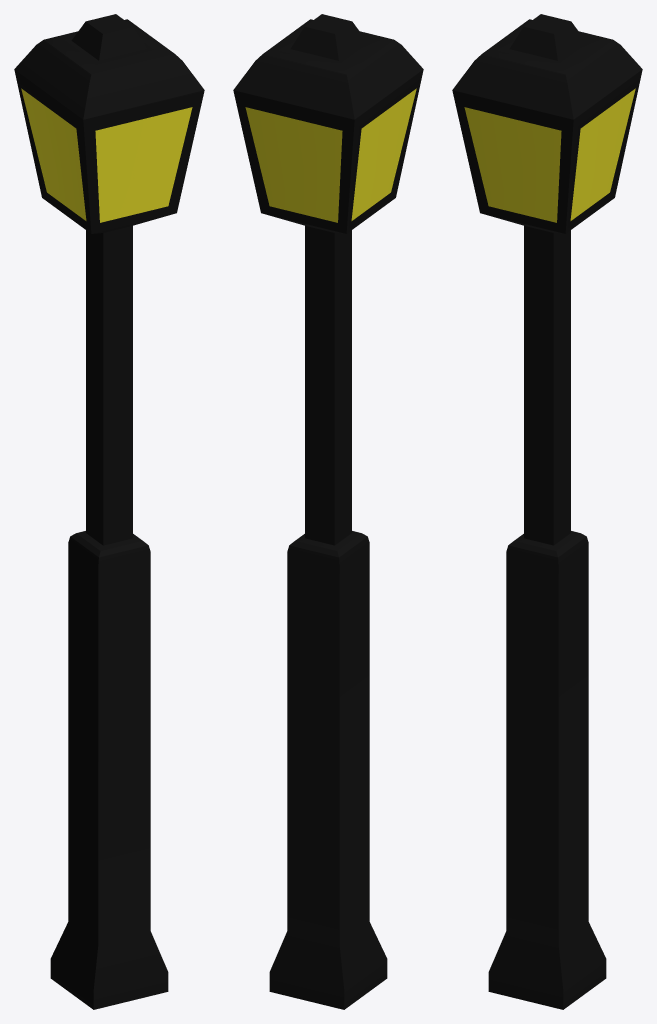
File: sokakLambasi.FBX
The picture shows the model from 3 angles, left to right: view 1: azimuth 30°, elevation 25°; view 2: azimuth 150°, elevation 25°; view 3: azimuth 330°, elevation 25°; orthographic projection.
Visible parts, largest first — view 1: Box034; view 2: Box034; view 3: Box034.
Part boxes in pixels (x1,y1,x2,y2): Box034: (14,14,204,1009); Box034: (233,14,423,1009); Box034: (452,14,642,1009).
Size of the model in its own units: 6.86 by 51.87 by 6.75.
